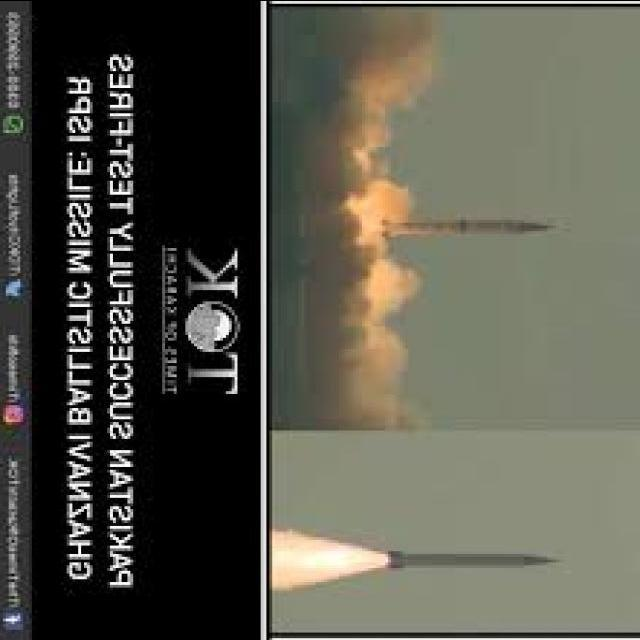Missile: (383, 550, 562, 573), (383, 215, 560, 238)
